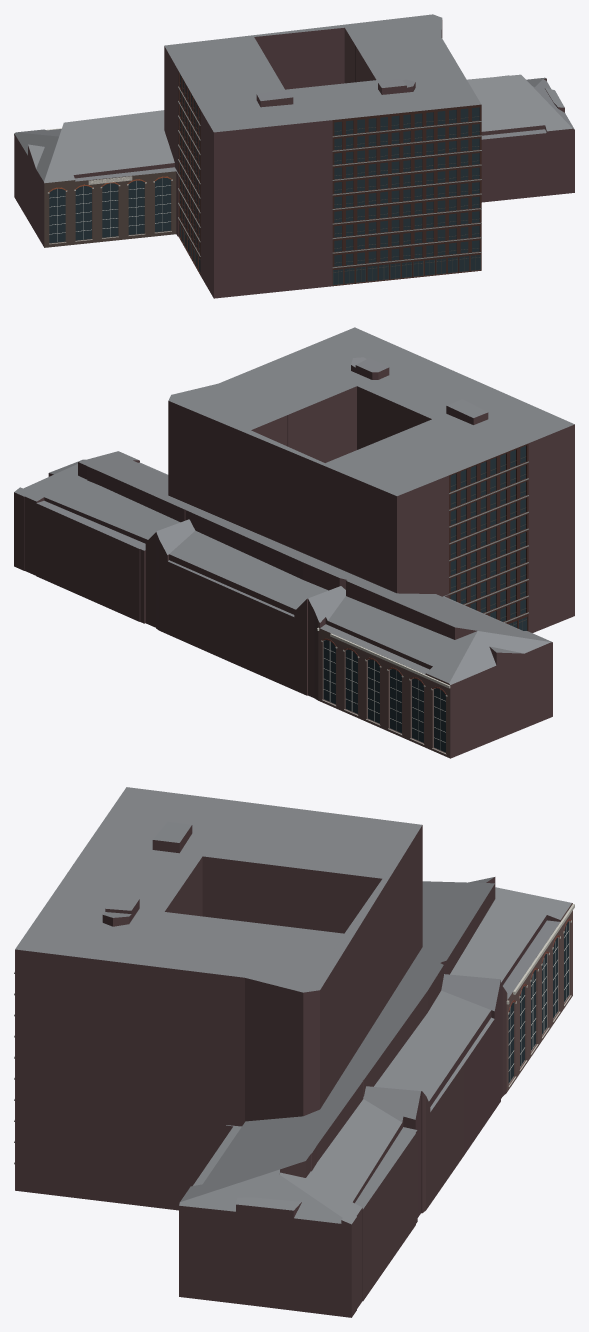
The model's file is recipe-large-waagdragerhof-198-118320.glb.
3 views of the same model, one above another, from view 1: azimuth 30°, elevation 25°; view 2: azimuth 150°, elevation 25°; view 3: azimuth 270°, elevation 25° (orthographic). The views are drawn at different scales.
Visible parts, largest first — view 1: waagdragerhof-198-118320; view 2: waagdragerhof-198-118320; view 3: waagdragerhof-198-118320.
Part boxes in pixels (x1,y1,x2,y2): waagdragerhof-198-118320: [14, 14, 574, 298]; waagdragerhof-198-118320: [14, 327, 574, 758]; waagdragerhof-198-118320: [14, 787, 574, 1317].
Bounding box in the file's own units: 102 × 34.94 × 70.72.
